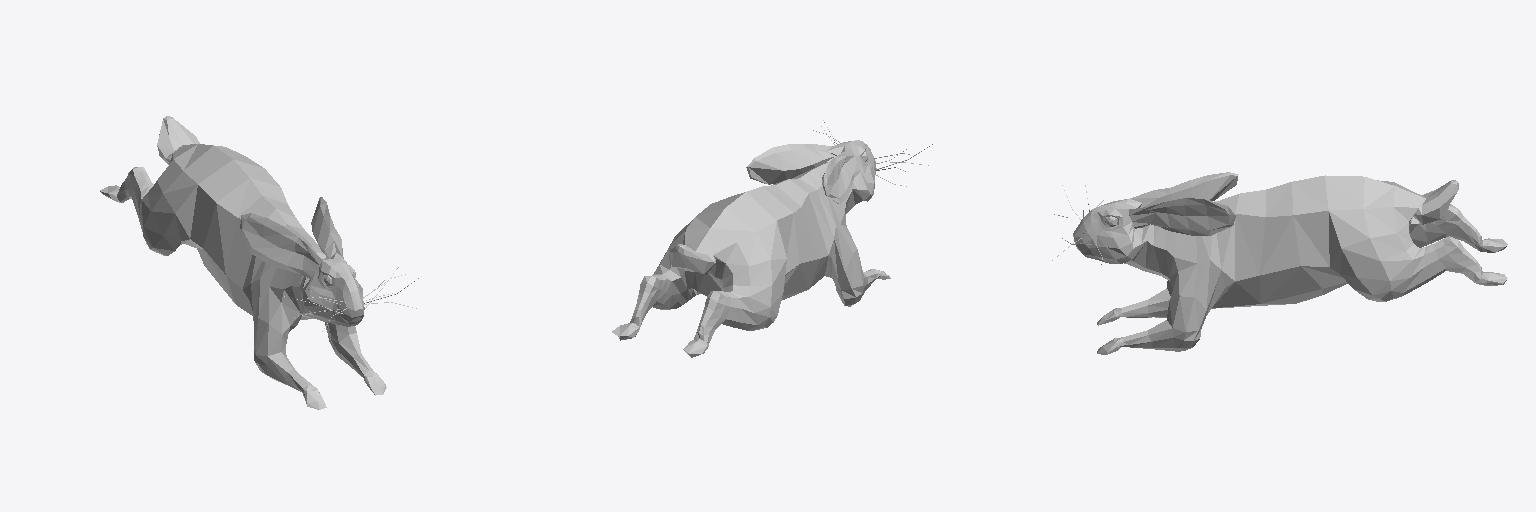
The model's file is rabbit_000008.obj.
3 views of the same model, side by side, from view 1: azimuth 30°, elevation 25°; view 2: azimuth 150°, elevation 25°; view 3: azimuth 270°, elevation 25° (orthographic).
Visible parts, largest first — view 1: Rabbit_Cylinder; view 2: Rabbit_Cylinder; view 3: Rabbit_Cylinder.
Part boxes in pixels (x1,y1,x2,y2): Rabbit_Cylinder: (100, 116, 418, 409); Rabbit_Cylinder: (612, 120, 932, 357); Rabbit_Cylinder: (1052, 172, 1507, 354).
Bounding box in the file's own units: 7.03 × 9.35 × 24.02.